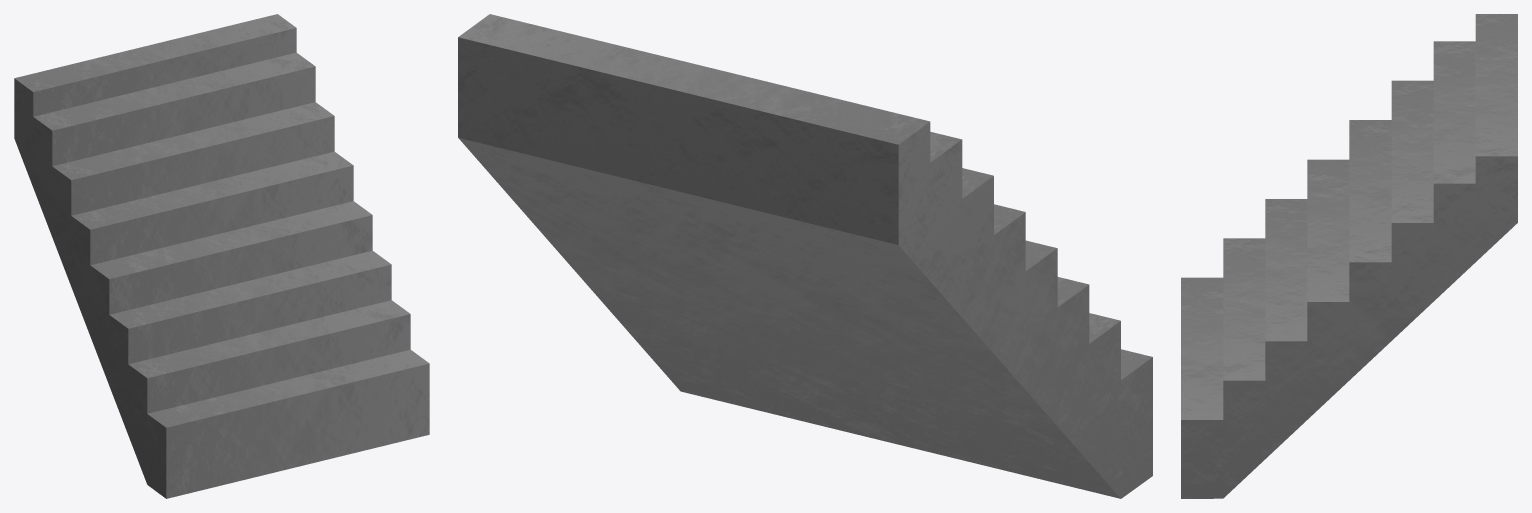
The model's file is stairs.fbx.
3 renders of one model, left to right at view 1: azimuth 30°, elevation 25°; view 2: azimuth 150°, elevation 25°; view 3: azimuth 270°, elevation 25°, orthographic. The views are drawn at different scales.
Parts seen in each view (by area): view 1: pCube4; view 2: pCube4; view 3: pCube4.
Boxes of the visible parts, x1,y1,x2,y2 form: pCube4: (14, 14, 429, 498); pCube4: (458, 14, 1152, 498); pCube4: (1181, 14, 1517, 498).
Size of the model in its own units: 100 by 112 by 100.
